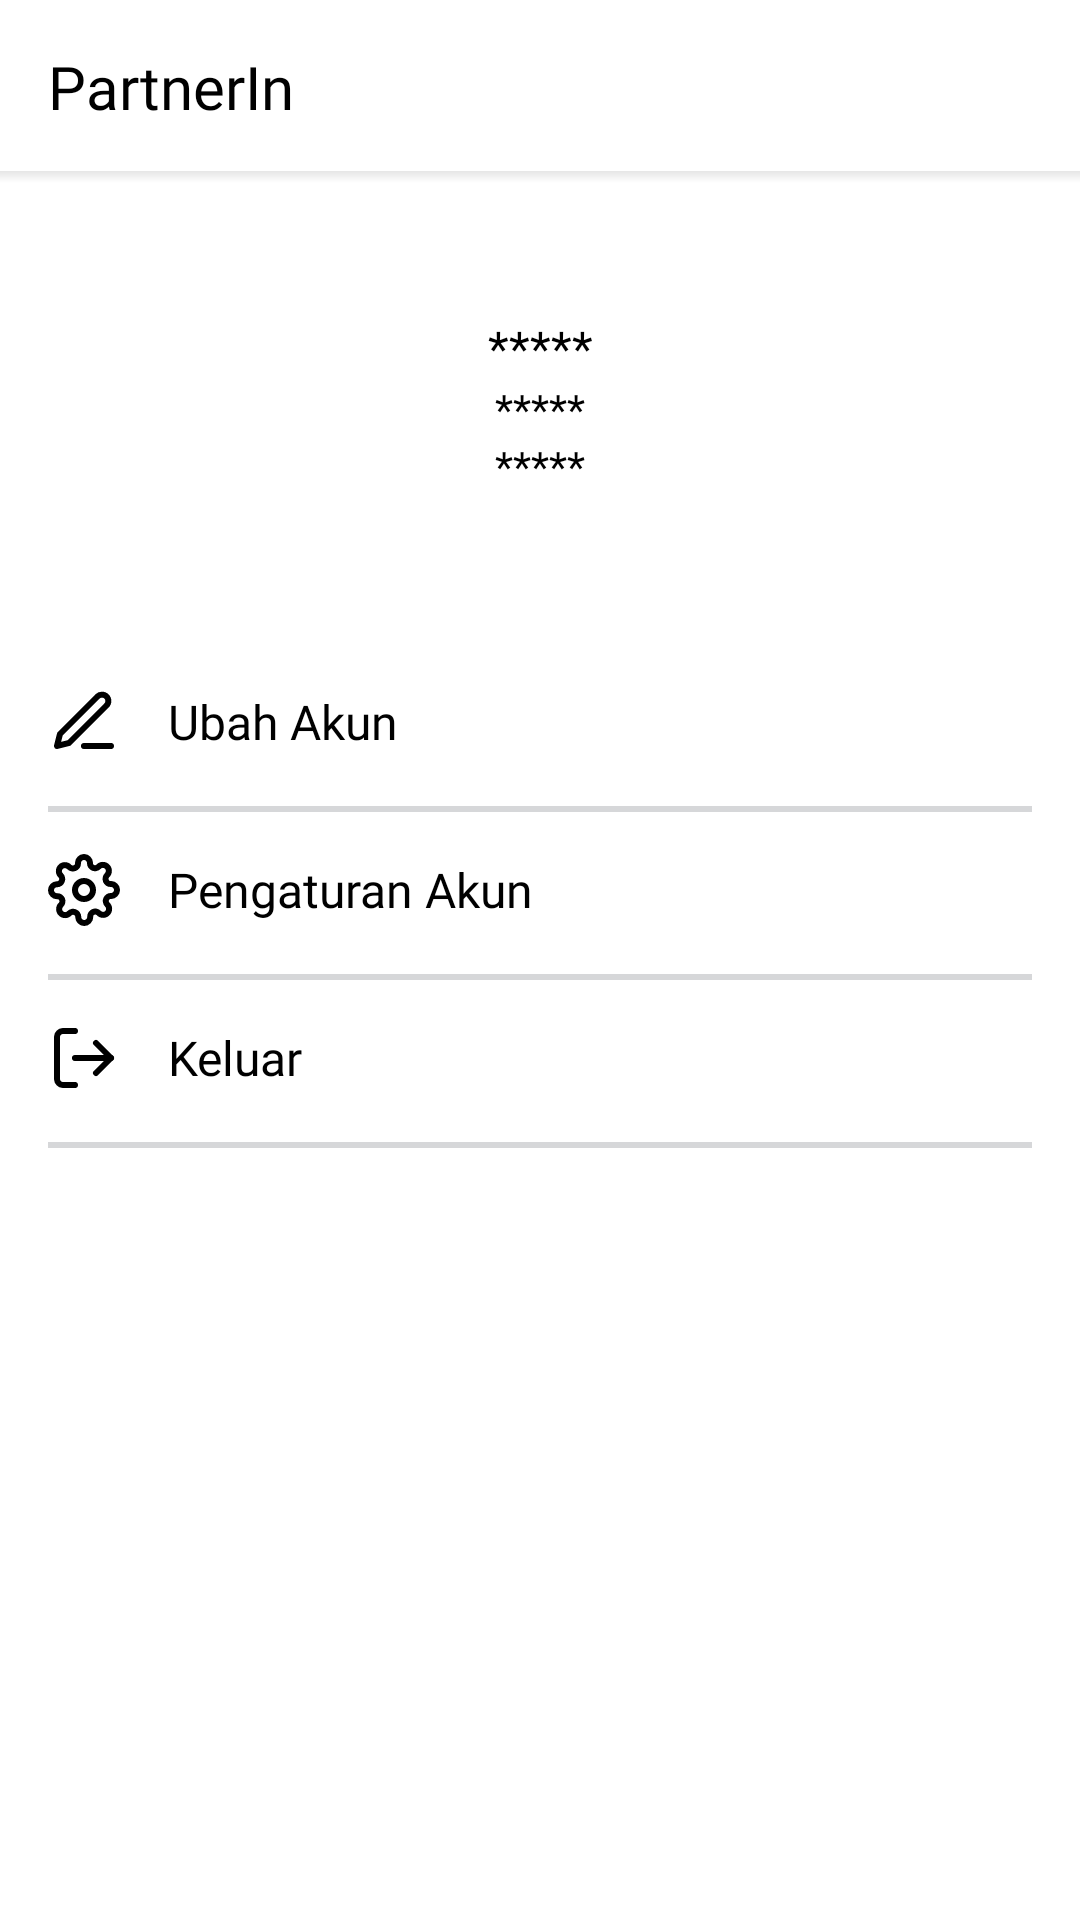

Named icons in this screenshot (1080x1920) and their bounding boxes, (x1, y1, x2, y2):
log out: (54, 1028, 114, 1088)
settings: (48, 854, 120, 926)
